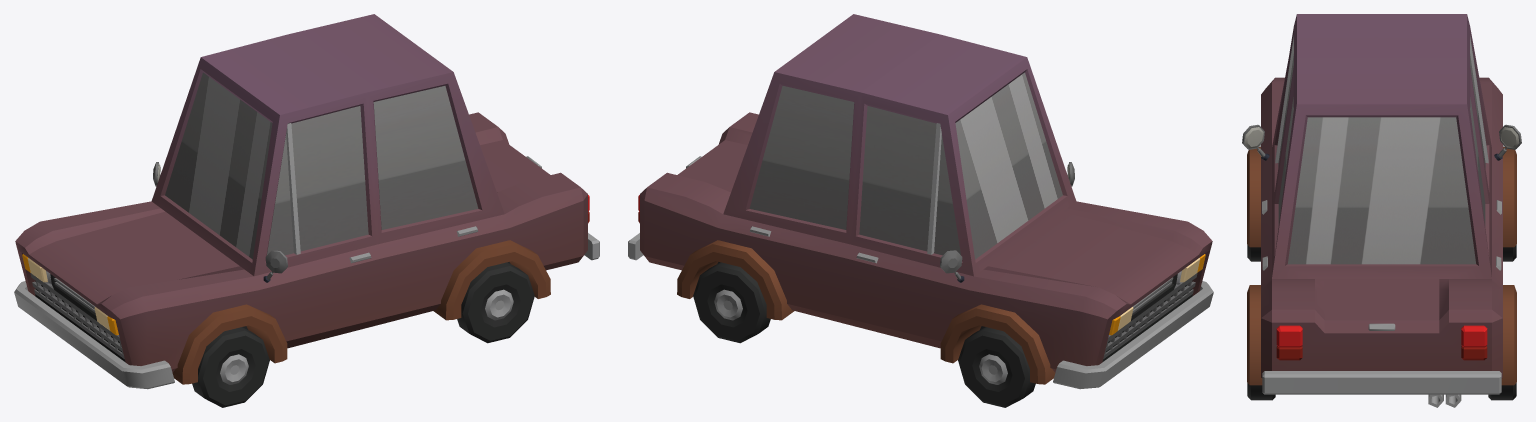
The model's file is Car_4_1_B.gltf.
3 views of the same model, side by side, from view 1: azimuth 30°, elevation 25°; view 2: azimuth 150°, elevation 25°; view 3: azimuth 270°, elevation 25° (orthographic). The views are drawn at different scales.
Visible parts, largest first — view 1: Car_4_1_B, RL, FL; view 2: Car_4_1_B, RR, FR; view 3: Car_4_1_B, RL, RR.
Boxes of the visible parts, x1,y1,x2,y2 form: Car_4_1_B: (14, 14, 599, 389); RL: (457, 262, 534, 343); FL: (192, 327, 269, 407); Car_4_1_B: (628, 14, 1213, 389); RR: (693, 262, 770, 343); FR: (958, 327, 1035, 407); Car_4_1_B: (1242, 14, 1521, 407); RL: (1247, 383, 1275, 400); RR: (1488, 383, 1516, 400).
Size of the model in its own units: 3.53 by 1.81 by 1.65.
Materials: 4 (4 with a texture image).
